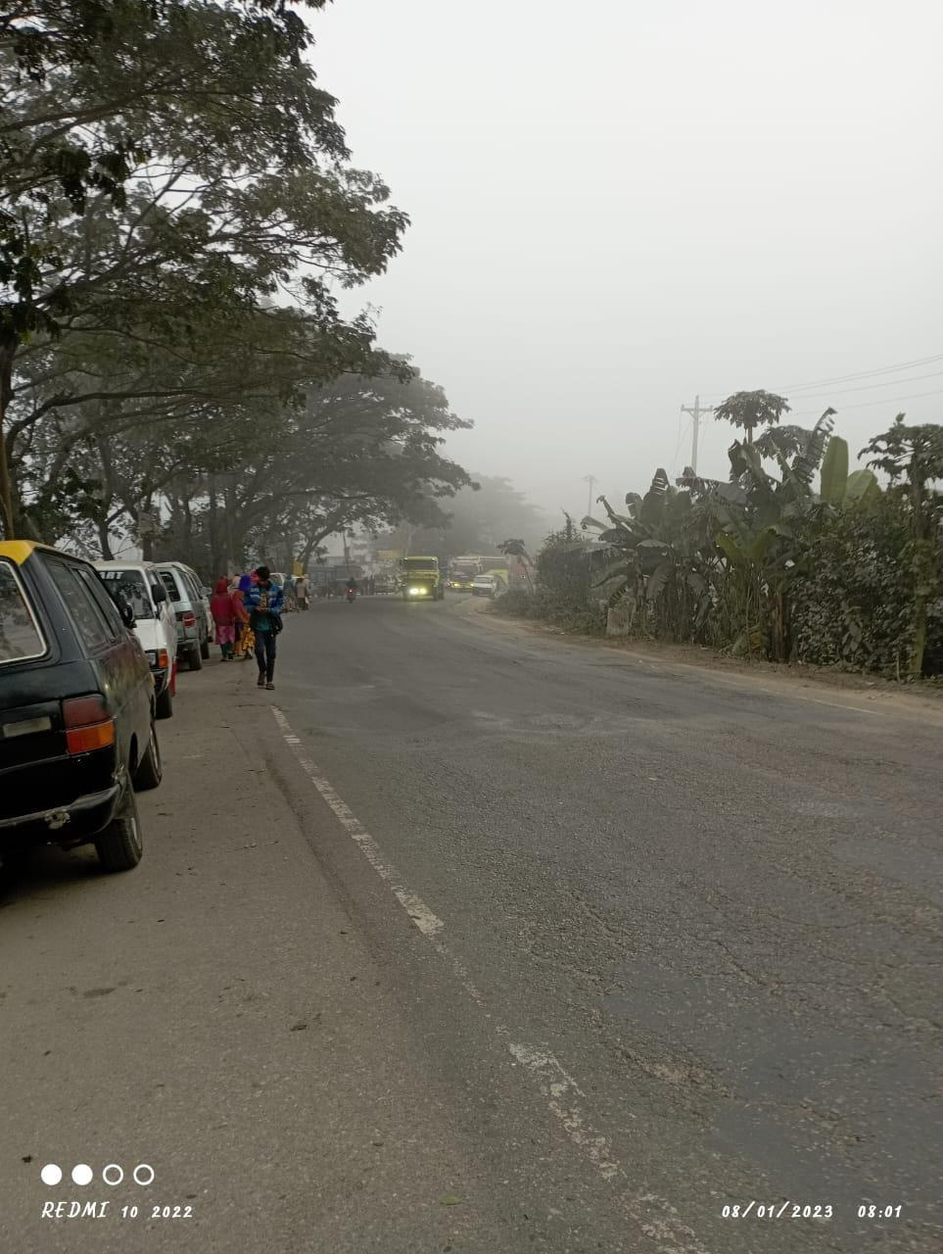Bike: (342, 569, 364, 608)
Car: (2, 521, 184, 875), (466, 567, 497, 600)
Truck: (381, 548, 456, 615)
